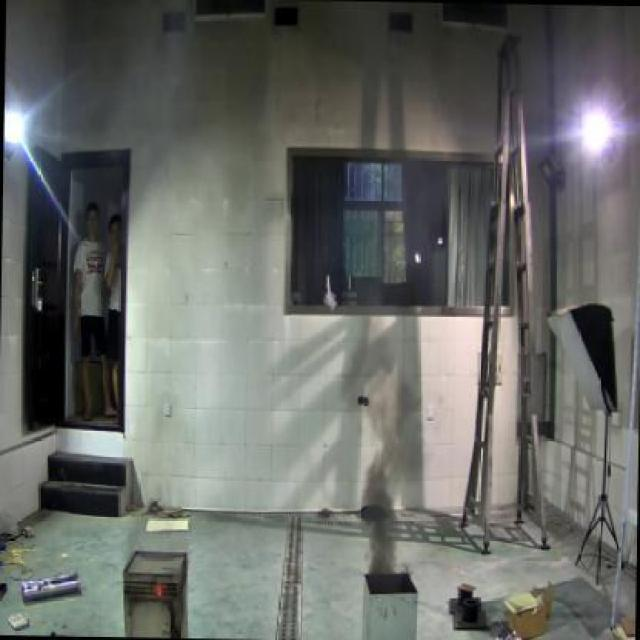fire: (356, 458, 419, 576)
